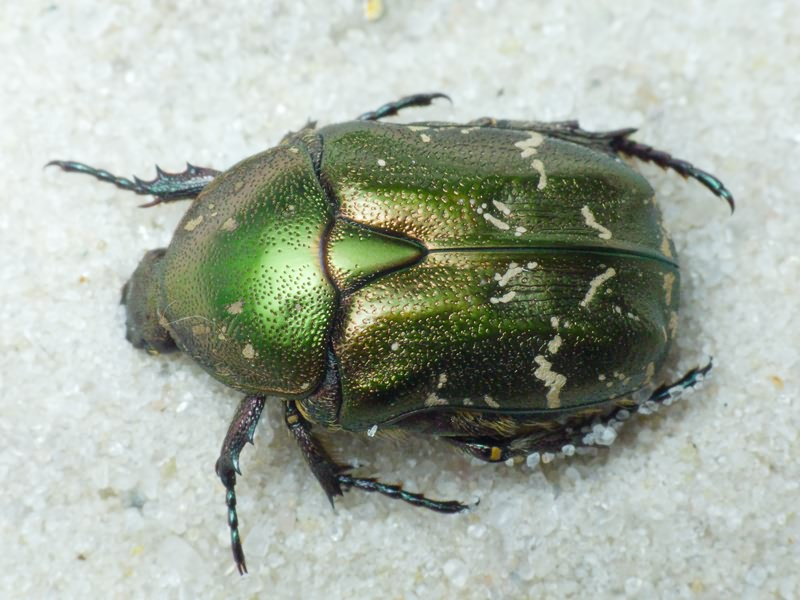Protaetia_metallica: (28, 87, 738, 580)
